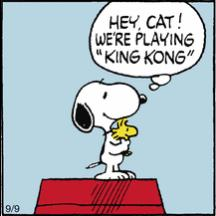snoopy: (70, 77, 146, 181)
